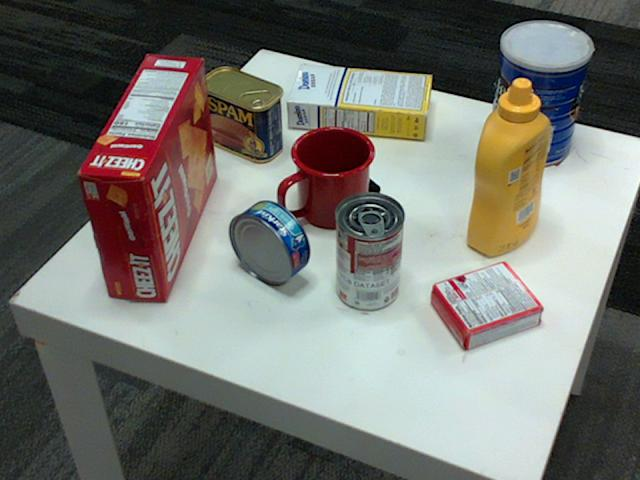cracker_box: (77, 51, 217, 298)
gelatin_box: (429, 262, 544, 350)
large_marker: (315, 138, 378, 197)
master_chef_can: (487, 21, 591, 167)
mug: (281, 123, 376, 226)
mustard_bottle: (465, 78, 551, 255)
potted_meat_can: (197, 68, 283, 162)
sugar_box: (287, 64, 434, 138)
tomato_soup_can: (335, 192, 405, 310)
tuna_fish_can: (230, 200, 311, 286)
